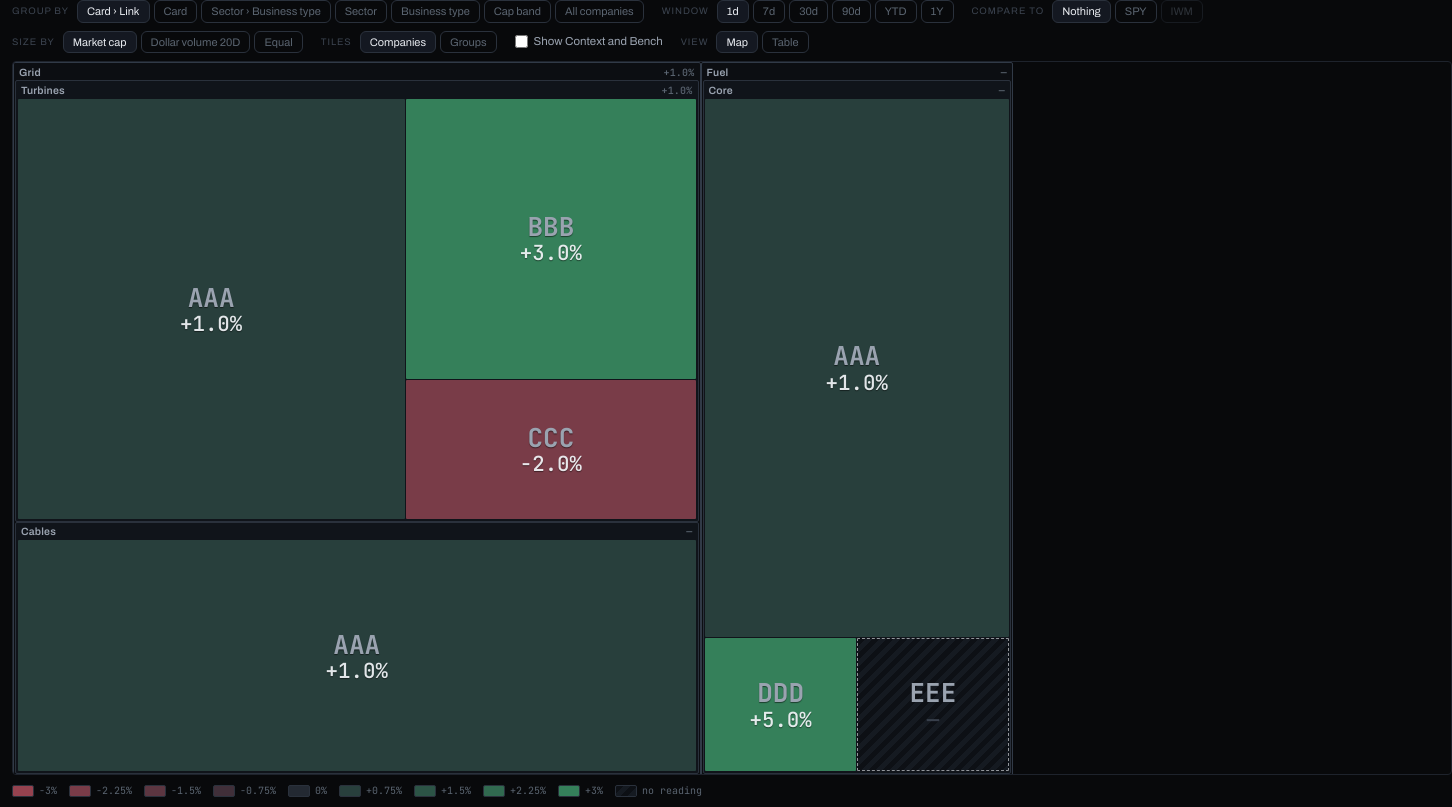
Test: the controls › Tiles: Groups draws one tile per link inside the card boxes
The width and height of the screenshot is (1452, 807).
Click the button "Groups": (468, 42) [440, 30, 497, 53]
(page scrolled)
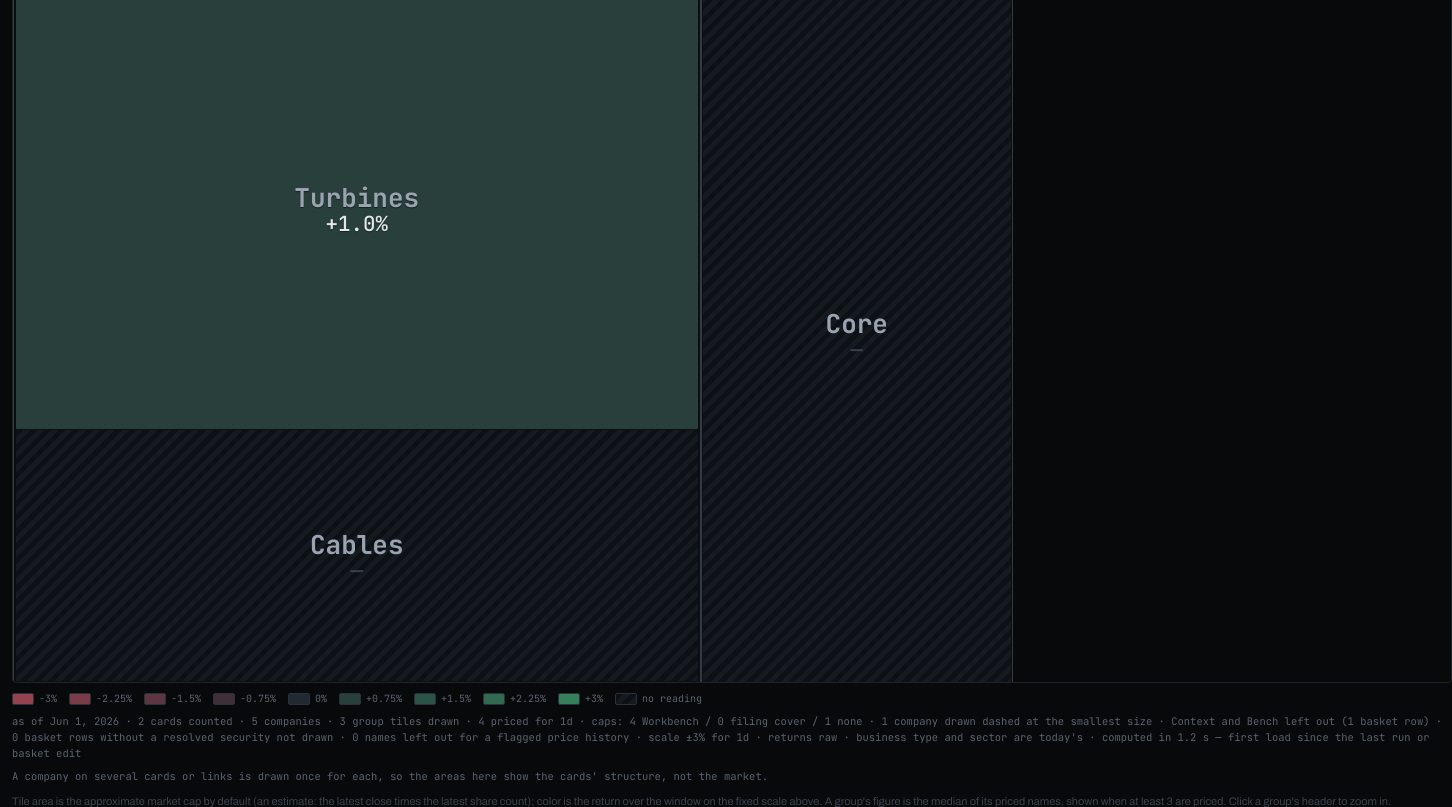
Expected: the text "Turbines" is shown, [292, 183, 421, 212]
Now the text "3 group tiles drawn" is shown, box [12, 714, 1442, 760]
